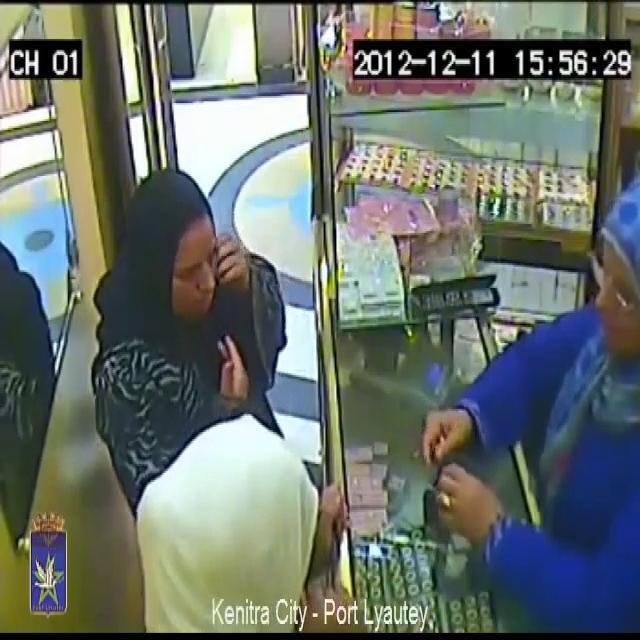Product: (429, 410, 455, 466)
normal: (136, 364, 354, 640), (136, 168, 253, 386)
shoplifting: (392, 160, 640, 628)
